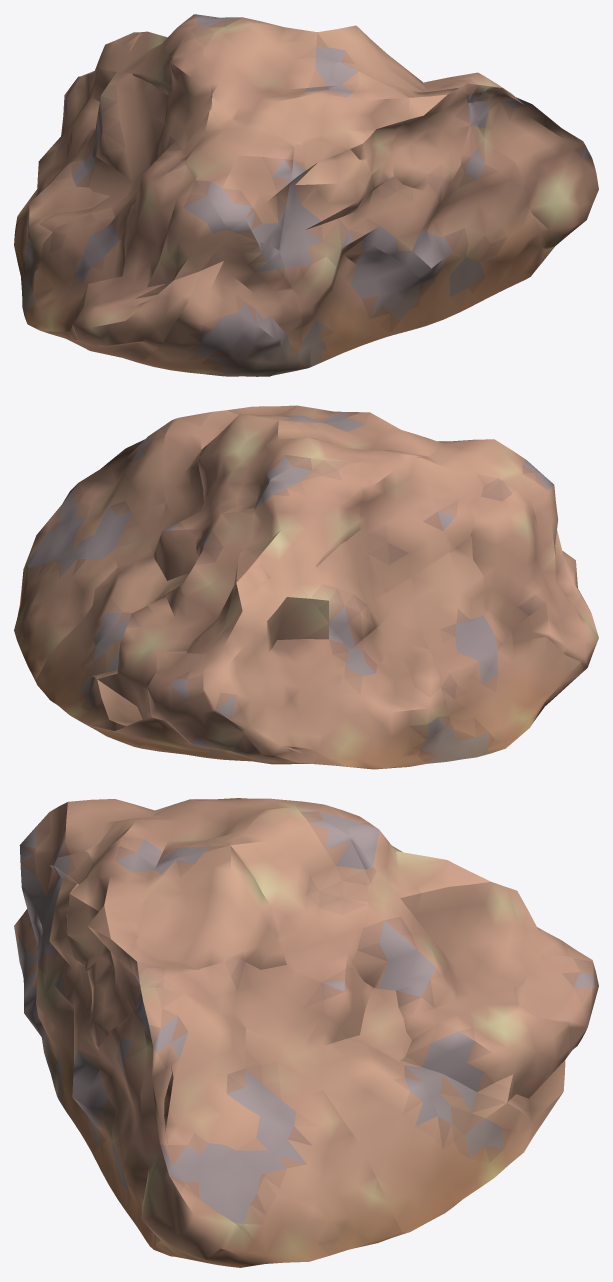
File: iron_rock_v5.glb
3 renders of one model, top to bottom at view 1: azimuth 30°, elevation 25°; view 2: azimuth 150°, elevation 25°; view 3: azimuth 270°, elevation 25°, orthographic. The views are drawn at different scales.
Visible parts, largest first — view 1: Chunk_12, Chunk_05, Chunk_07, Chunk_15, Chunk_28, Chunk_20, Chunk_13, Chunk_02, Chunk_04, Chunk_23, Chunk_18, Chunk_22 (+10 smaller); view 2: Chunk_14, Chunk_12, Chunk_04, Chunk_01, Chunk_13, Chunk_25, Chunk_27, Chunk_03, Chunk_06, Chunk_00, Chunk_29, Chunk_08 (+13 smaller); view 3: Chunk_13, Chunk_03, Chunk_00, Chunk_08, Chunk_29, Chunk_26, Chunk_19, Chunk_21, Chunk_05, Chunk_24, Chunk_28, Chunk_20 (+11 smaller).
Boxes of the visible parts, bbox=[...] form: Chunk_12: bbox=[72, 156, 226, 362]; Chunk_05: bbox=[419, 115, 550, 327]; Chunk_07: bbox=[138, 229, 303, 376]; Chunk_15: bbox=[279, 137, 374, 325]; Chunk_28: bbox=[203, 31, 333, 144]; Chunk_20: bbox=[176, 109, 294, 249]; Chunk_13: bbox=[471, 78, 598, 249]; Chunk_02: bbox=[296, 240, 424, 370]; Chunk_04: bbox=[22, 207, 119, 356]; Chunk_23: bbox=[320, 60, 409, 189]; Chunk_18: bbox=[392, 87, 472, 204]; Chunk_22: bbox=[91, 73, 167, 180]; Chunk_14: bbox=[203, 578, 348, 763]; Chunk_12: bbox=[468, 472, 598, 673]; Chunk_04: bbox=[422, 615, 581, 758]; Chunk_01: bbox=[304, 650, 465, 769]; Chunk_13: bbox=[23, 419, 174, 573]; Chunk_25: bbox=[353, 457, 474, 593]; Chunk_27: bbox=[248, 453, 362, 583]; Chunk_03: bbox=[53, 605, 206, 757]; Chunk_06: bbox=[147, 651, 303, 764]; Chunk_00: bbox=[14, 554, 138, 680]; Chunk_29: bbox=[180, 420, 324, 539]; Chunk_08: bbox=[35, 543, 162, 701]; Chunk_13: bbox=[140, 987, 307, 1258]; Chunk_03: bbox=[402, 1004, 570, 1206]; Chunk_00: bbox=[155, 1066, 402, 1267]; Chunk_08: bbox=[304, 1014, 453, 1233]; Chunk_29: bbox=[222, 807, 367, 982]; Chunk_26: bbox=[127, 843, 286, 984]; Chunk_19: bbox=[415, 863, 541, 1004]; Chunk_21: bbox=[138, 958, 323, 1050]; Chunk_05: bbox=[82, 1005, 158, 1251]; Chunk_24: bbox=[352, 868, 444, 990]; Chunk_28: bbox=[88, 799, 278, 865]; Chunk_20: bbox=[19, 799, 174, 924].
Bounding box in the file's own units: 3.81 × 1.88 × 3.08.
